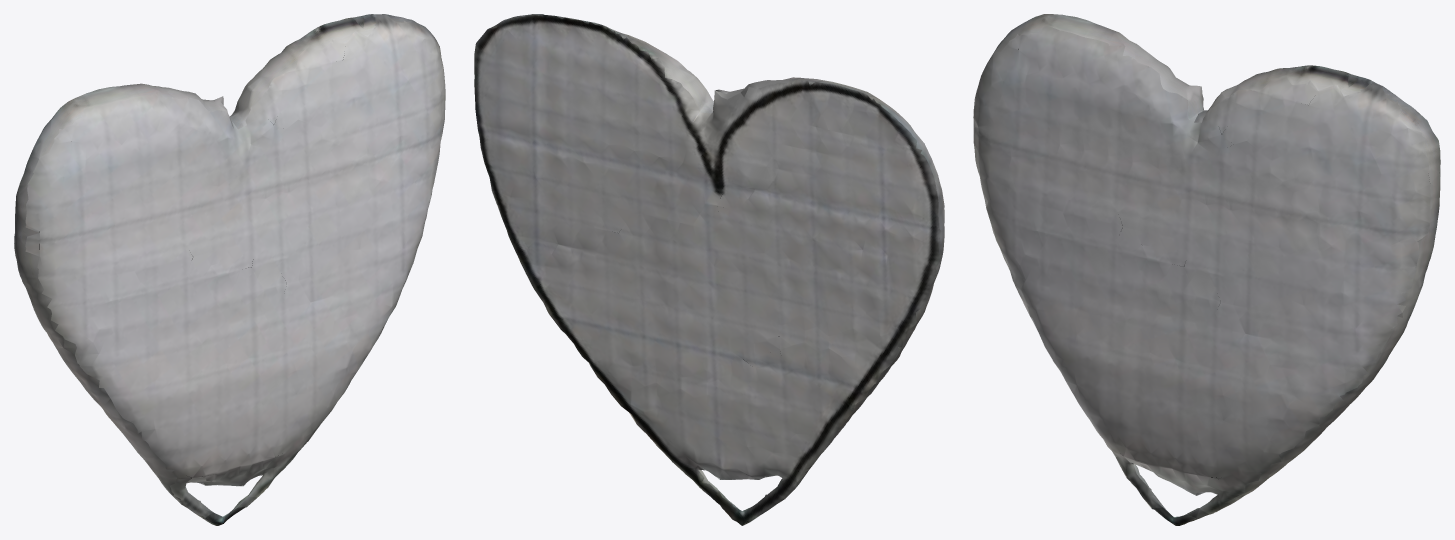
3 views of the same model, side by side, from view 1: azimuth 30°, elevation 25°; view 2: azimuth 150°, elevation 25°; view 3: azimuth 330°, elevation 25° (orthographic). The views are drawn at different scales.
Parts seen in each view (by area): view 1: world; view 2: world; view 3: world.
Part boxes in pixels (x1=…): world: x1=14, y1=14, x2=445, y2=525; world: x1=474, y1=14, x2=944, y2=525; world: x1=973, y1=14, x2=1440, y2=525.
Bounding box in the file's own units: 0.8094 × 0.8158 × 0.1164.
Materials: 1 (1 with a texture image).
